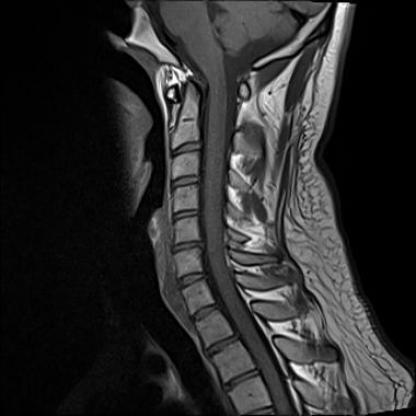Disc Bulgerotation: (172, 235, 204, 257)
